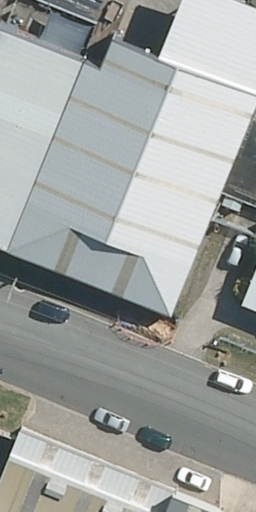DT: (1, 277, 18, 303)
